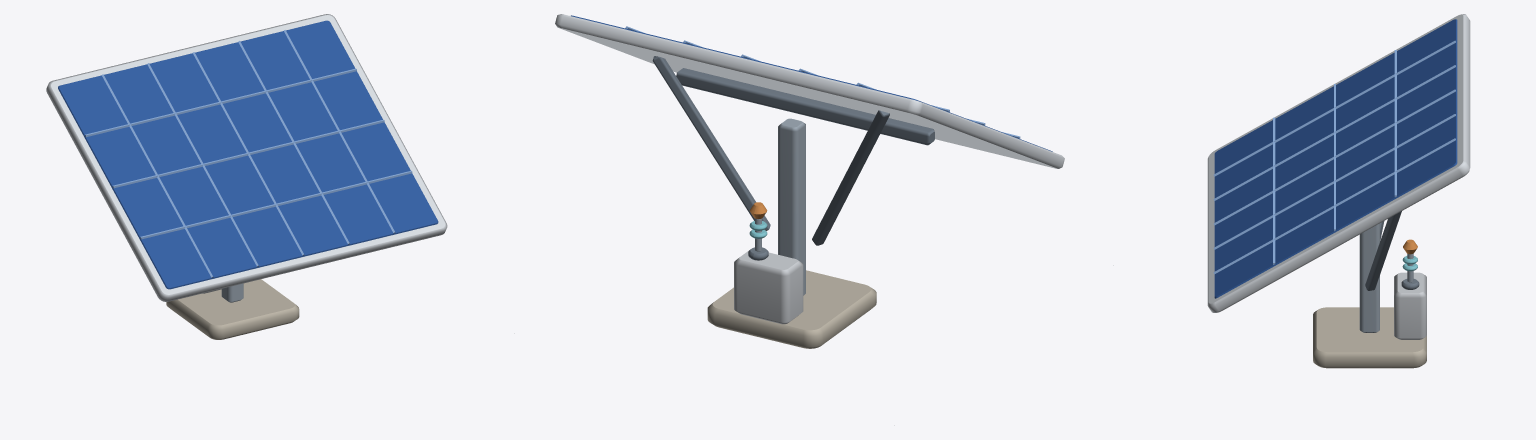
File: panneau_solaire.glb
3 views of the same model, side by side, from view 1: azimuth 30°, elevation 25°; view 2: azimuth 150°, elevation 25°; view 3: azimuth 270°, elevation 25° (orthographic). The views are drawn at different scales.
Parts seen in each view (by area): view 1: pieces_solaire.002, pieces_solaire_cadre.002, pieces_solaire_ligne.002, pieces_socle_beton.006; view 2: pieces_solaire_cadre.002, pieces_pylone_sombre.006, pieces_socle_beton.006, pieces_coffret.006, pieces_pylone.006, pieces_solaire.002; view 3: pieces_solaire.002, pieces_solaire_cadre.002, pieces_socle_beton.006, pieces_solaire_ligne.002, pieces_coffret.006, pieces_pylone.006, pieces_pylone_sombre.006.
Part boxes in pixels (x1=…): pieces_solaire.002: x1=58, y1=20, x2=438, y2=289; pieces_solaire_cadre.002: x1=46, y1=14, x2=447, y2=301; pieces_solaire_ligne.002: x1=85, y1=30, x2=412, y2=277; pieces_socle_beton.006: x1=166, y1=279, x2=299, y2=339; pieces_solaire_cadre.002: x1=555, y1=14, x2=1064, y2=168; pieces_pylone_sombre.006: x1=652, y1=56, x2=934, y2=260; pieces_socle_beton.006: x1=707, y1=270, x2=876, y2=348; pieces_coffret.006: x1=734, y1=250, x2=803, y2=324; pieces_pylone.006: x1=755, y1=118, x2=805, y2=295; pieces_solaire.002: x1=571, y1=15, x2=1052, y2=151; pieces_solaire.002: x1=1214, y1=19, x2=1457, y2=298; pieces_solaire_cadre.002: x1=1207, y1=14, x2=1470, y2=312; pieces_socle_beton.006: x1=1313, y1=307, x2=1426, y2=368; pieces_solaire_ligne.002: x1=1213, y1=40, x2=1455, y2=274; pieces_coffret.006: x1=1394, y1=272, x2=1426, y2=339; pieces_pylone.006: x1=1359, y1=223, x2=1413, y2=332; pieces_pylone_sombre.006: x1=1365, y1=211, x2=1419, y2=290.
Size of the model in its own units: 1.5 by 1.12 by 1.5.
